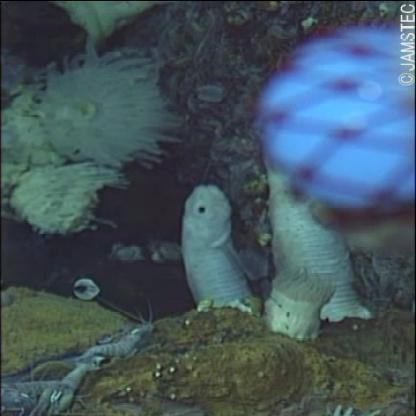Bio: (178, 146, 370, 348), (1, 310, 163, 415)
